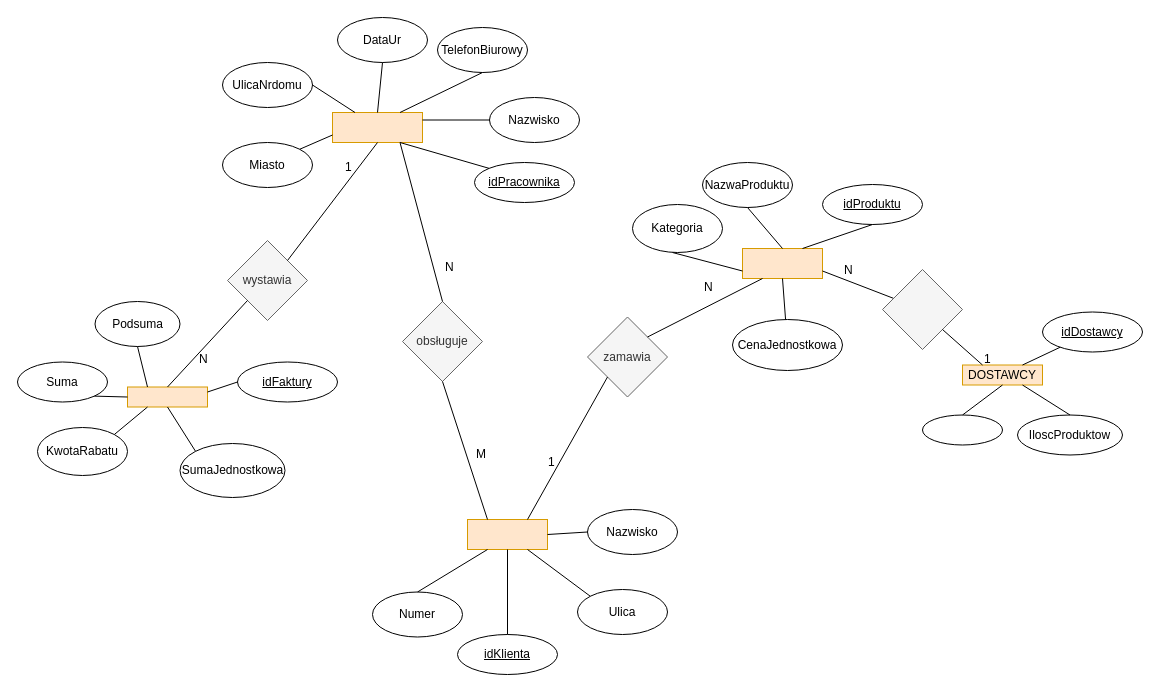
Image size: 1160x692. Some labels were removed from this diagram. The shapes that lost their labels are listed below. From the top down, each one's box as (x1, y1, x2, y2) in pixels, then its label:
(332, 112, 422, 142): PRACOWNIK
(742, 248, 822, 278): PRODUKT
(882, 268, 962, 350): dostarczają
(126, 386, 208, 407): FAKTURY
(922, 414, 1002, 445): Nazwa
(466, 518, 548, 550): KLIENT
